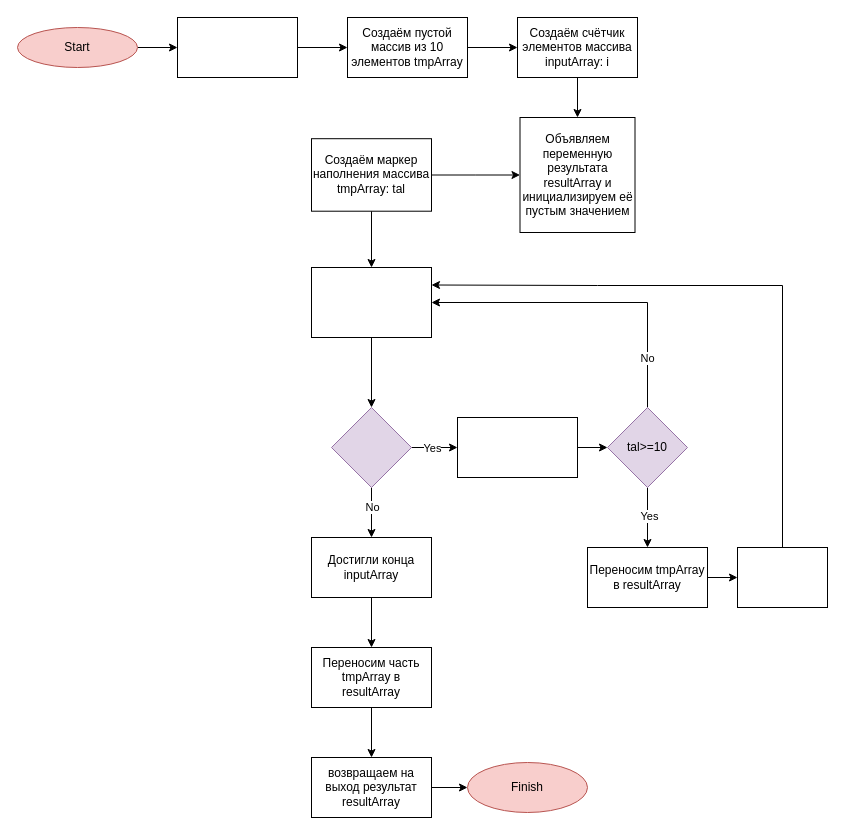
The diagram is 845 pixels wide and 835 high, and some of its shapes have lost their labels. The shapes that lost their labels are listed below. From the top down, each one's centre as x and y in pixels, then its label:
pixel 237 47: Массив целых чисел inputArray
pixel 371 302: Берём очередной элемент из массива inputArray и увеличиваем счётчик i на 1
pixel 371 447: Чётный элемент
pixel 517 447: Копируем элемент в tmpArray[tal] и увеличиваем tal на 1
pixel 782 577: Сбрасываем tal в 0
